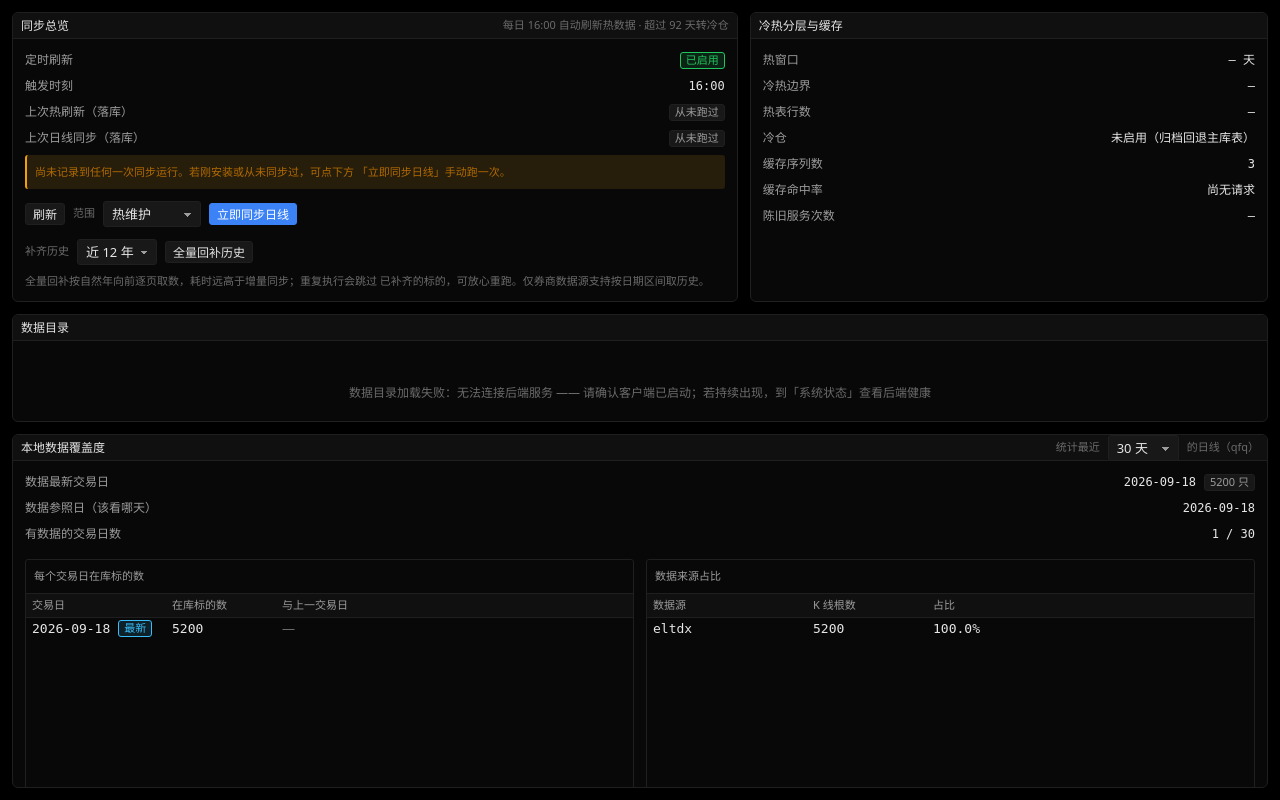
Test: 离线数据页 · 诚实性 › 点击「立即同步日线」提交 system.sync_bars 任务
Click the button "立即同步日线". click: (253, 214)
box: x1=209 y1=203 x2=297 y2=225
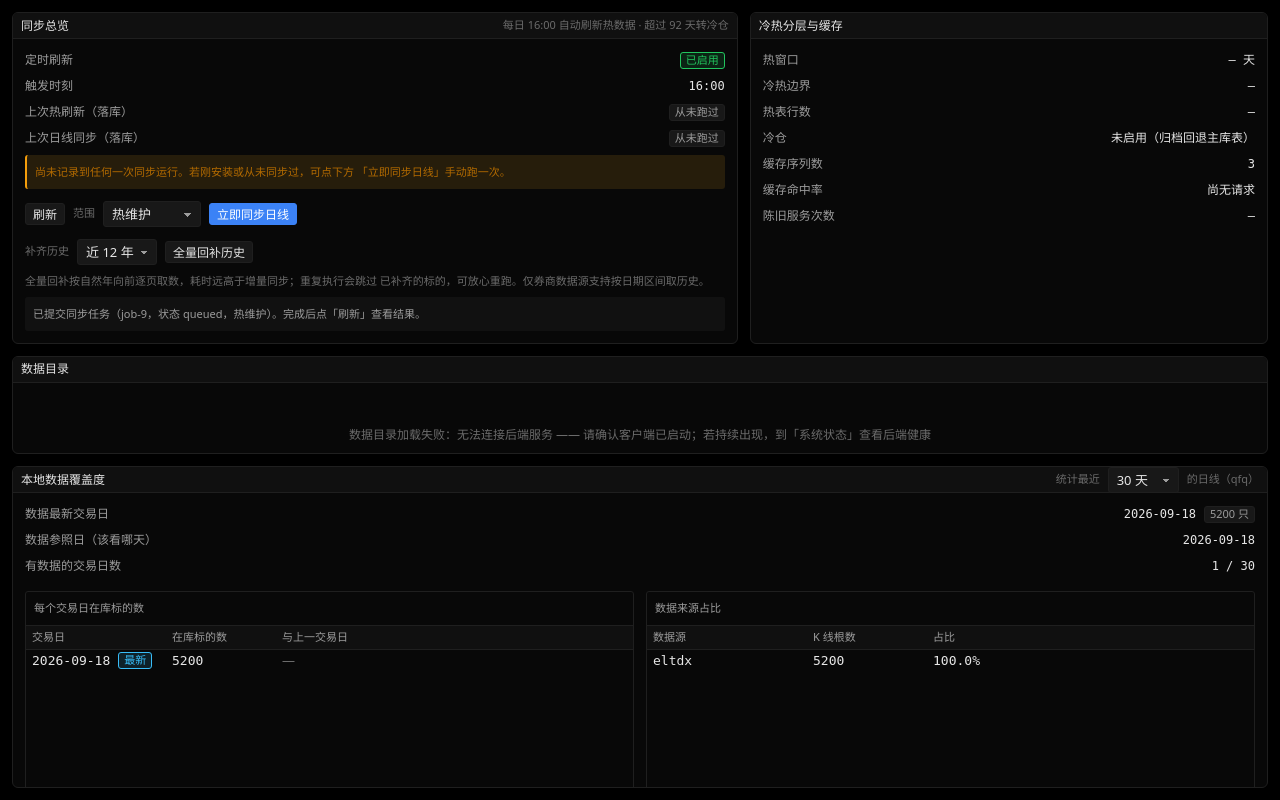
Result: the text "已提交同步任务（job-9，状态 queued，热维护）。完成后点「刷新」查看结果。" is shown at x1=25 y1=297 x2=725 y2=331
